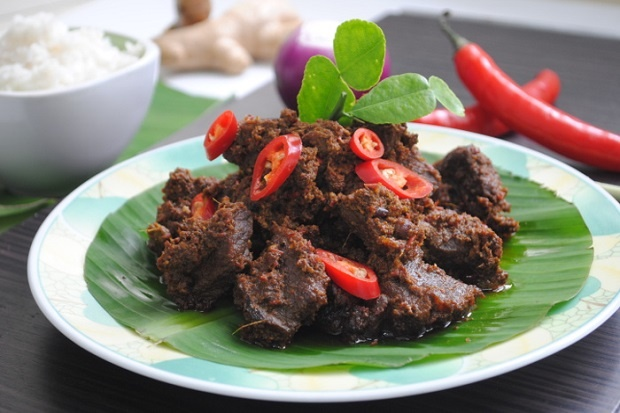rendang: (144, 95, 543, 350)
